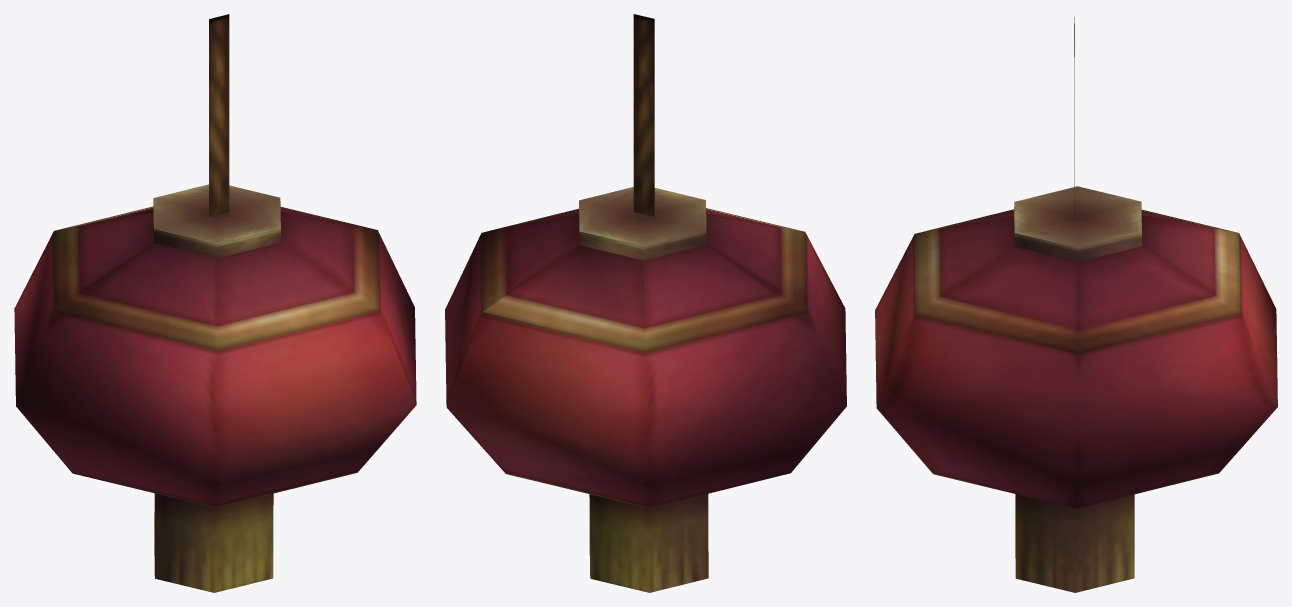
The model's file is zc_suzhou_denglong.FBX.
3 views of the same model, side by side, from view 1: azimuth 30°, elevation 25°; view 2: azimuth 150°, elevation 25°; view 3: azimuth 270°, elevation 25° (orthographic).
Visible parts, largest first — view 1: zc_suzhou_denglong; view 2: zc_suzhou_denglong; view 3: zc_suzhou_denglong.
Part boxes in pixels (bbox=[...]): zc_suzhou_denglong: bbox=[14, 14, 416, 592]; zc_suzhou_denglong: bbox=[445, 14, 846, 592]; zc_suzhou_denglong: bbox=[875, 17, 1277, 592].
Size of the model in its own units: 52.83 by 68.86 by 45.93.
